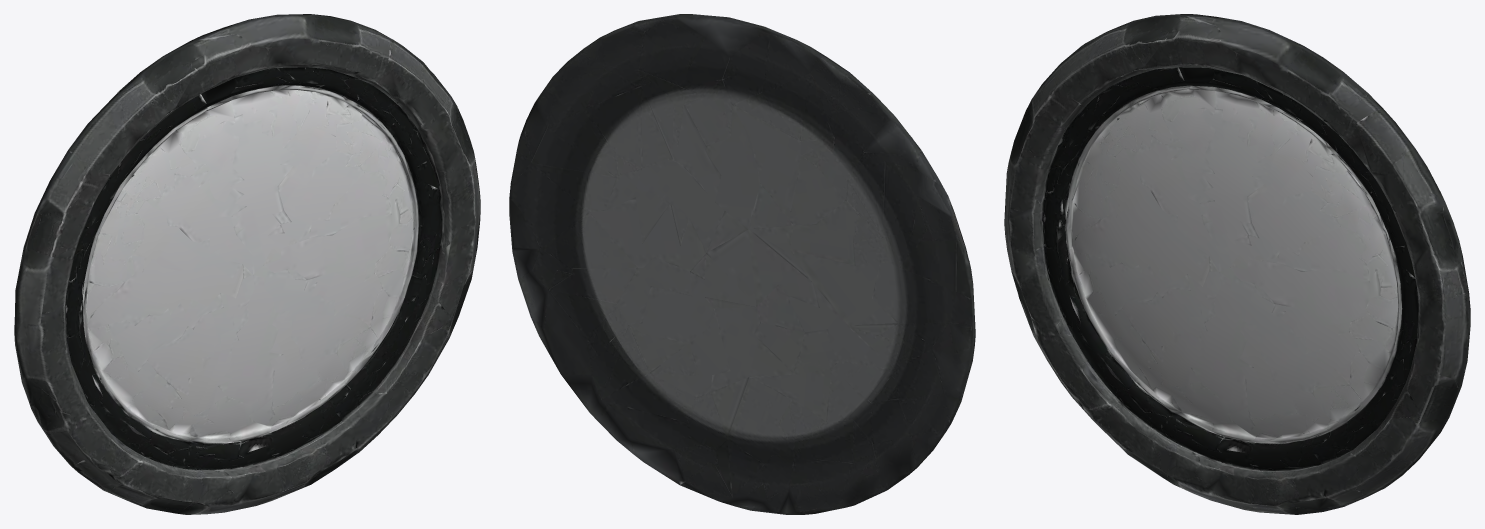
File: lente.glb
3 renders of one model, left to right at view 1: azimuth 30°, elevation 25°; view 2: azimuth 150°, elevation 25°; view 3: azimuth 330°, elevation 25°, orthographic.
Bounding box in the file's own units: 1.9 × 1.9 × 0.0952.
1 material, 1 textured.
